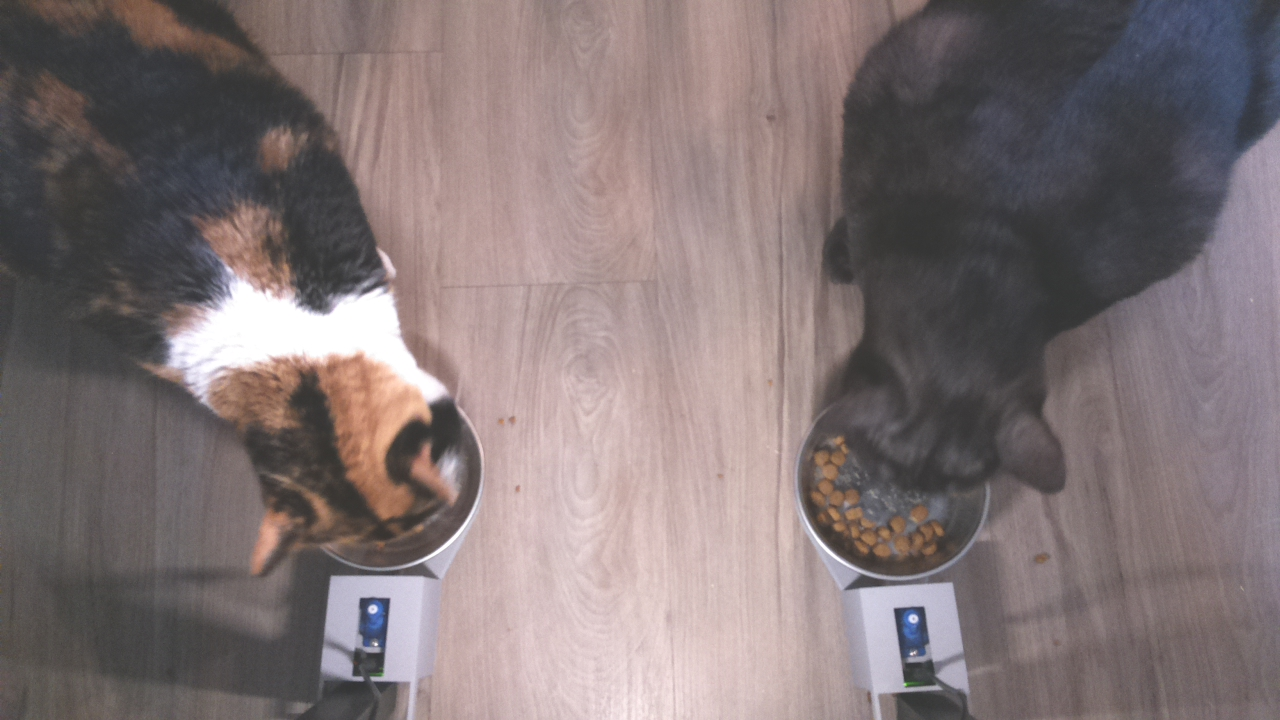bella_eating: (208, 276, 495, 576)
saki_eating: (779, 292, 1080, 586)
